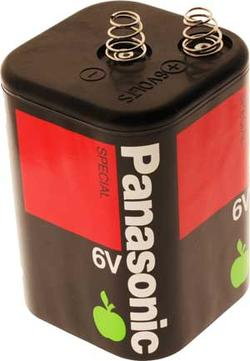6V: (6, 5, 245, 358)
